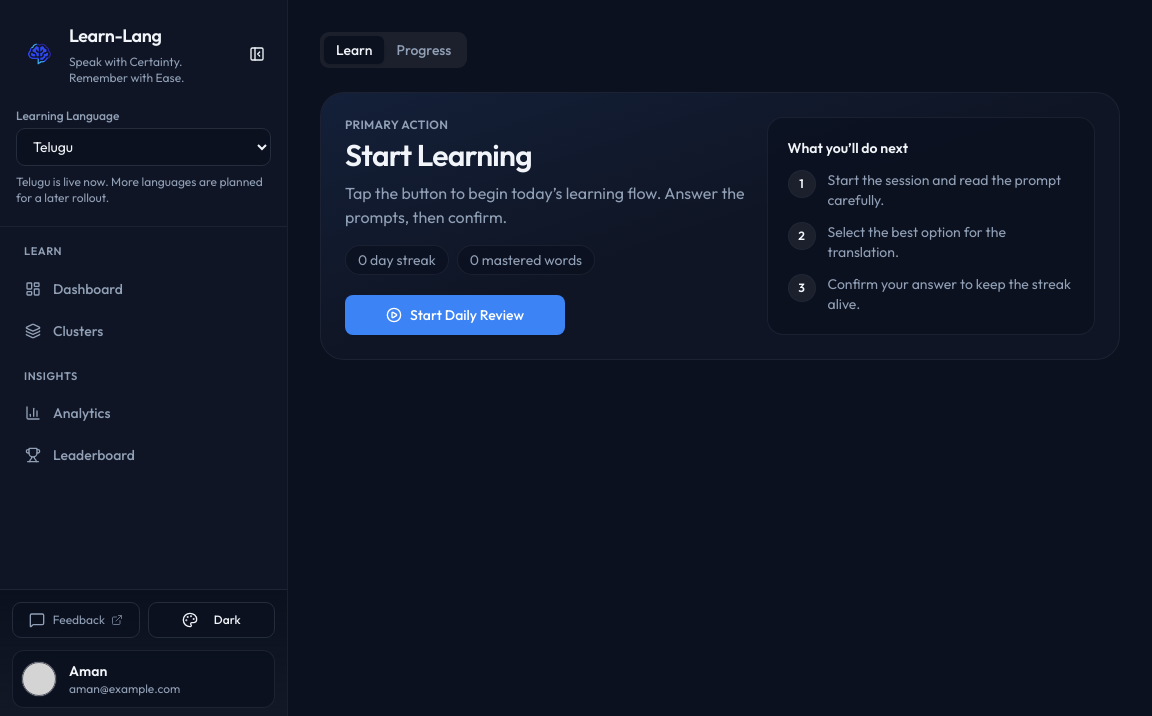
Test: Dashboard integration › renders zero-data dashboard stats as a valid default success state
The width and height of the screenshot is (1152, 716).
Expected: the text "0 day streak" is shown, top-left (345, 245), bottom-right (449, 275)
Expected: the text "0 mastered words" is shown, top-left (457, 245), bottom-right (595, 275)
Click the tab "Progress" at [424, 50], box top-left (384, 36), bottom-right (463, 64)
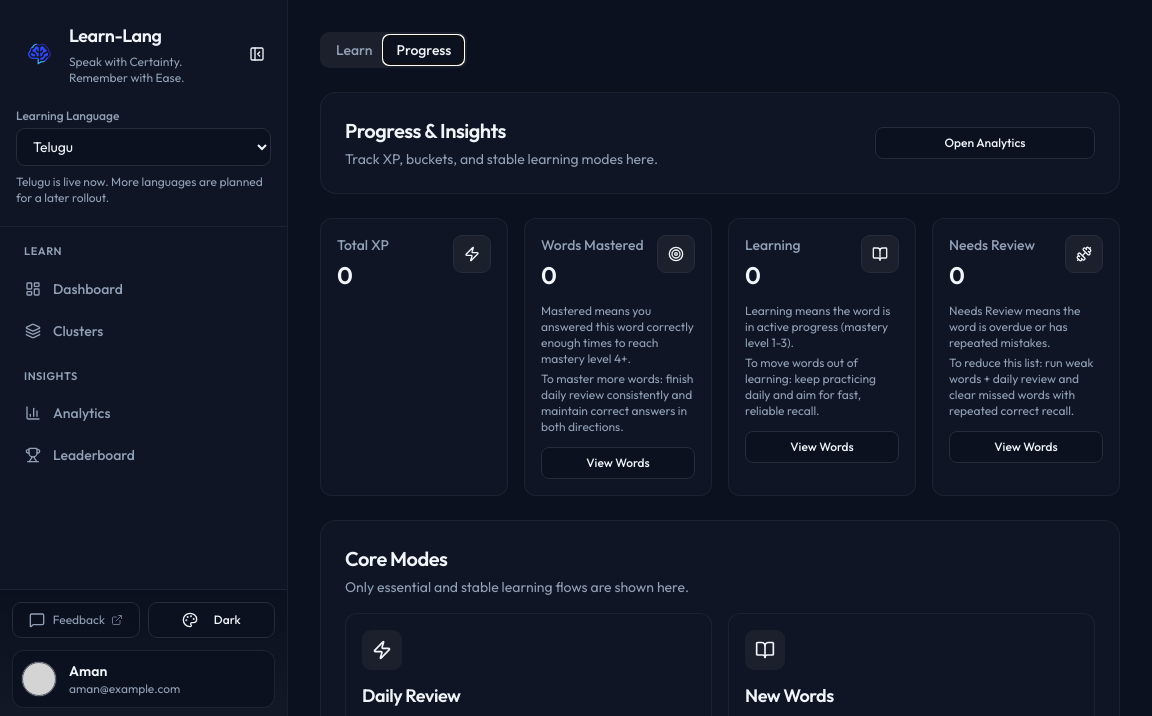
Now the text "Total XP" is shown, box top-left (337, 235), bottom-right (389, 255)
Now the text "Words Mastered" is shown, box top-left (541, 235), bottom-right (644, 255)
Now the text "Learning" is shown, box top-left (745, 235), bottom-right (800, 255)
Click the tab "Learn" at [354, 50], box top-left (324, 36), bottom-right (384, 64)
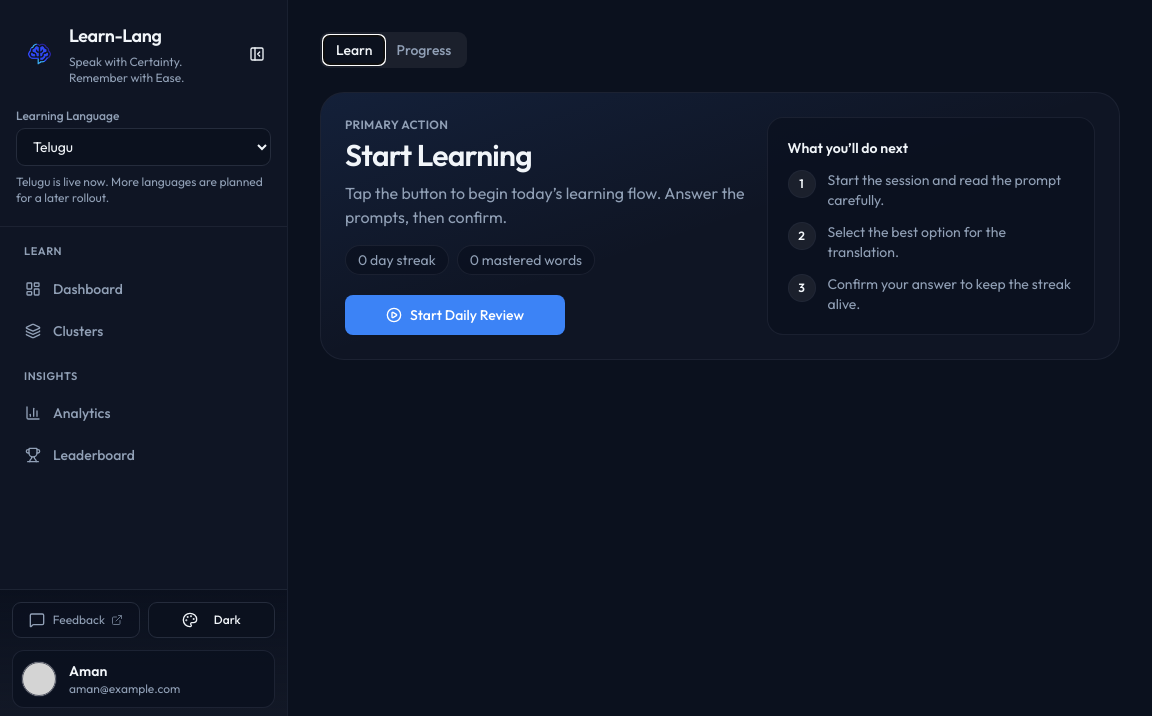
Now the button "Start Daily Review" is shown, box top-left (345, 295), bottom-right (565, 335)
